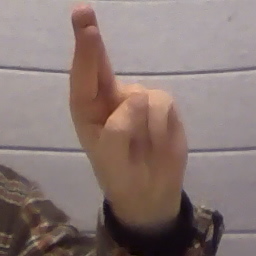R: (66, 2, 191, 198)
